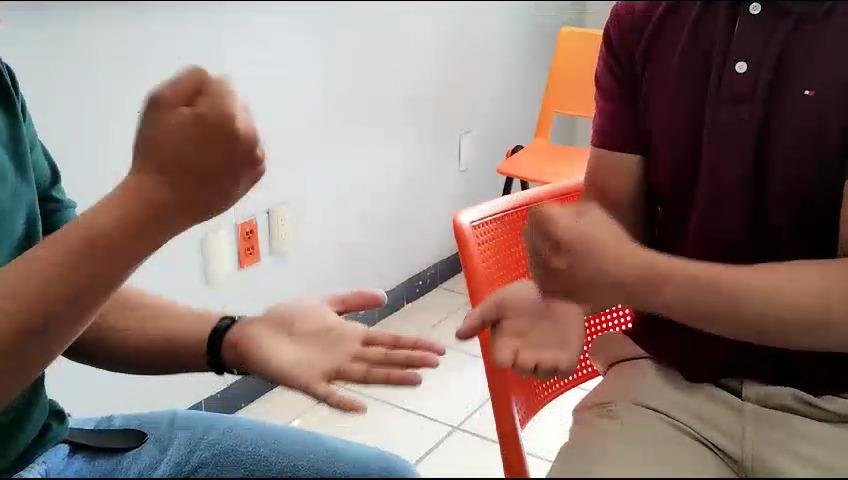Stone: (119, 53, 280, 220), (511, 188, 641, 318)
